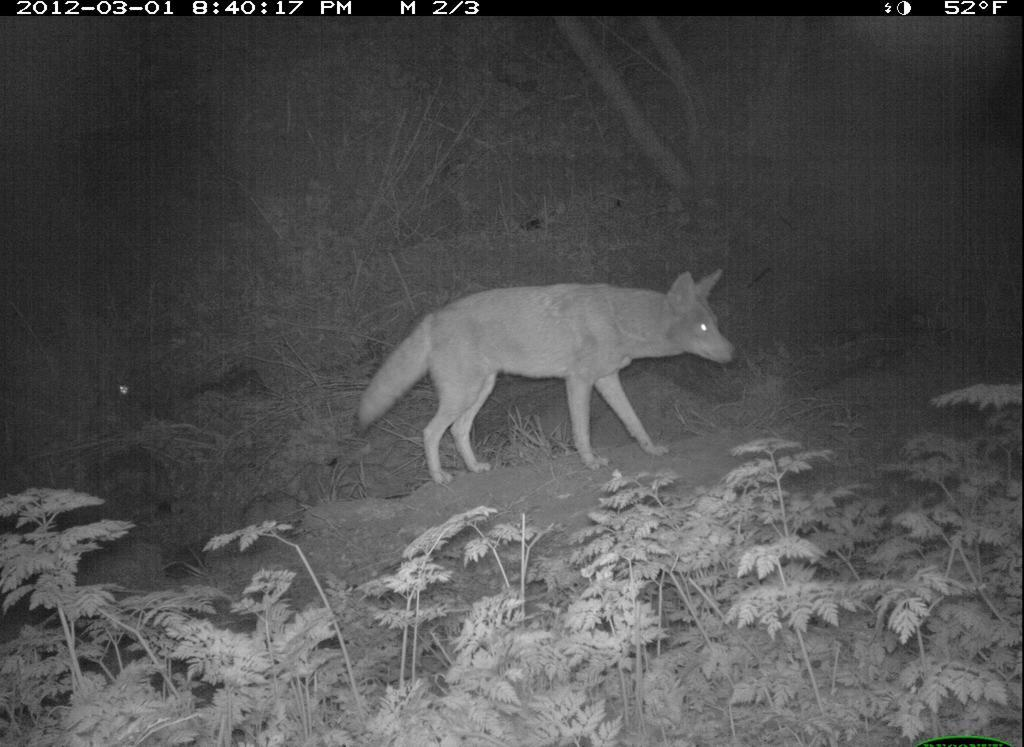coyote: (356, 267, 737, 483)
